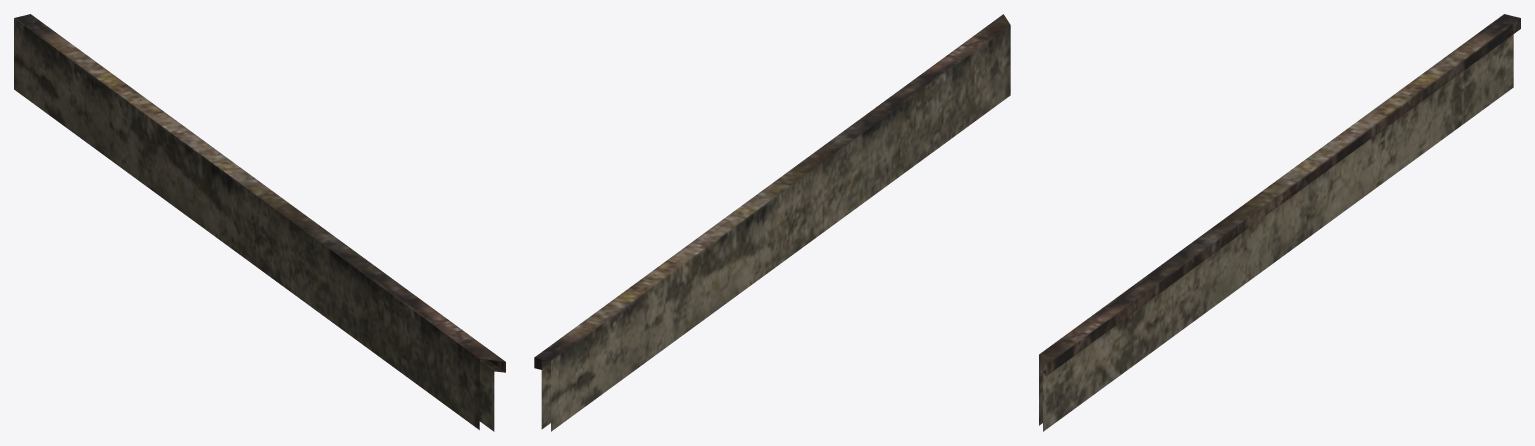
Rendered from Roof_Sidewall_03.FBX.
The picture shows the model from 3 angles, left to right: view 1: azimuth 30°, elevation 25°; view 2: azimuth 150°, elevation 25°; view 3: azimuth 330°, elevation 25°; orthographic projection.
Visible parts, largest first — view 1: Roof_Sidewall_03; view 2: Roof_Sidewall_03; view 3: Roof_Sidewall_03.
Boxes of the visible parts, bbox=[...] form: Roof_Sidewall_03: bbox=[14, 14, 505, 431]; Roof_Sidewall_03: bbox=[534, 14, 1010, 431]; Roof_Sidewall_03: bbox=[1039, 14, 1520, 431].
Size of the model in its own units: 22.67 by 92.93 by 1121.
